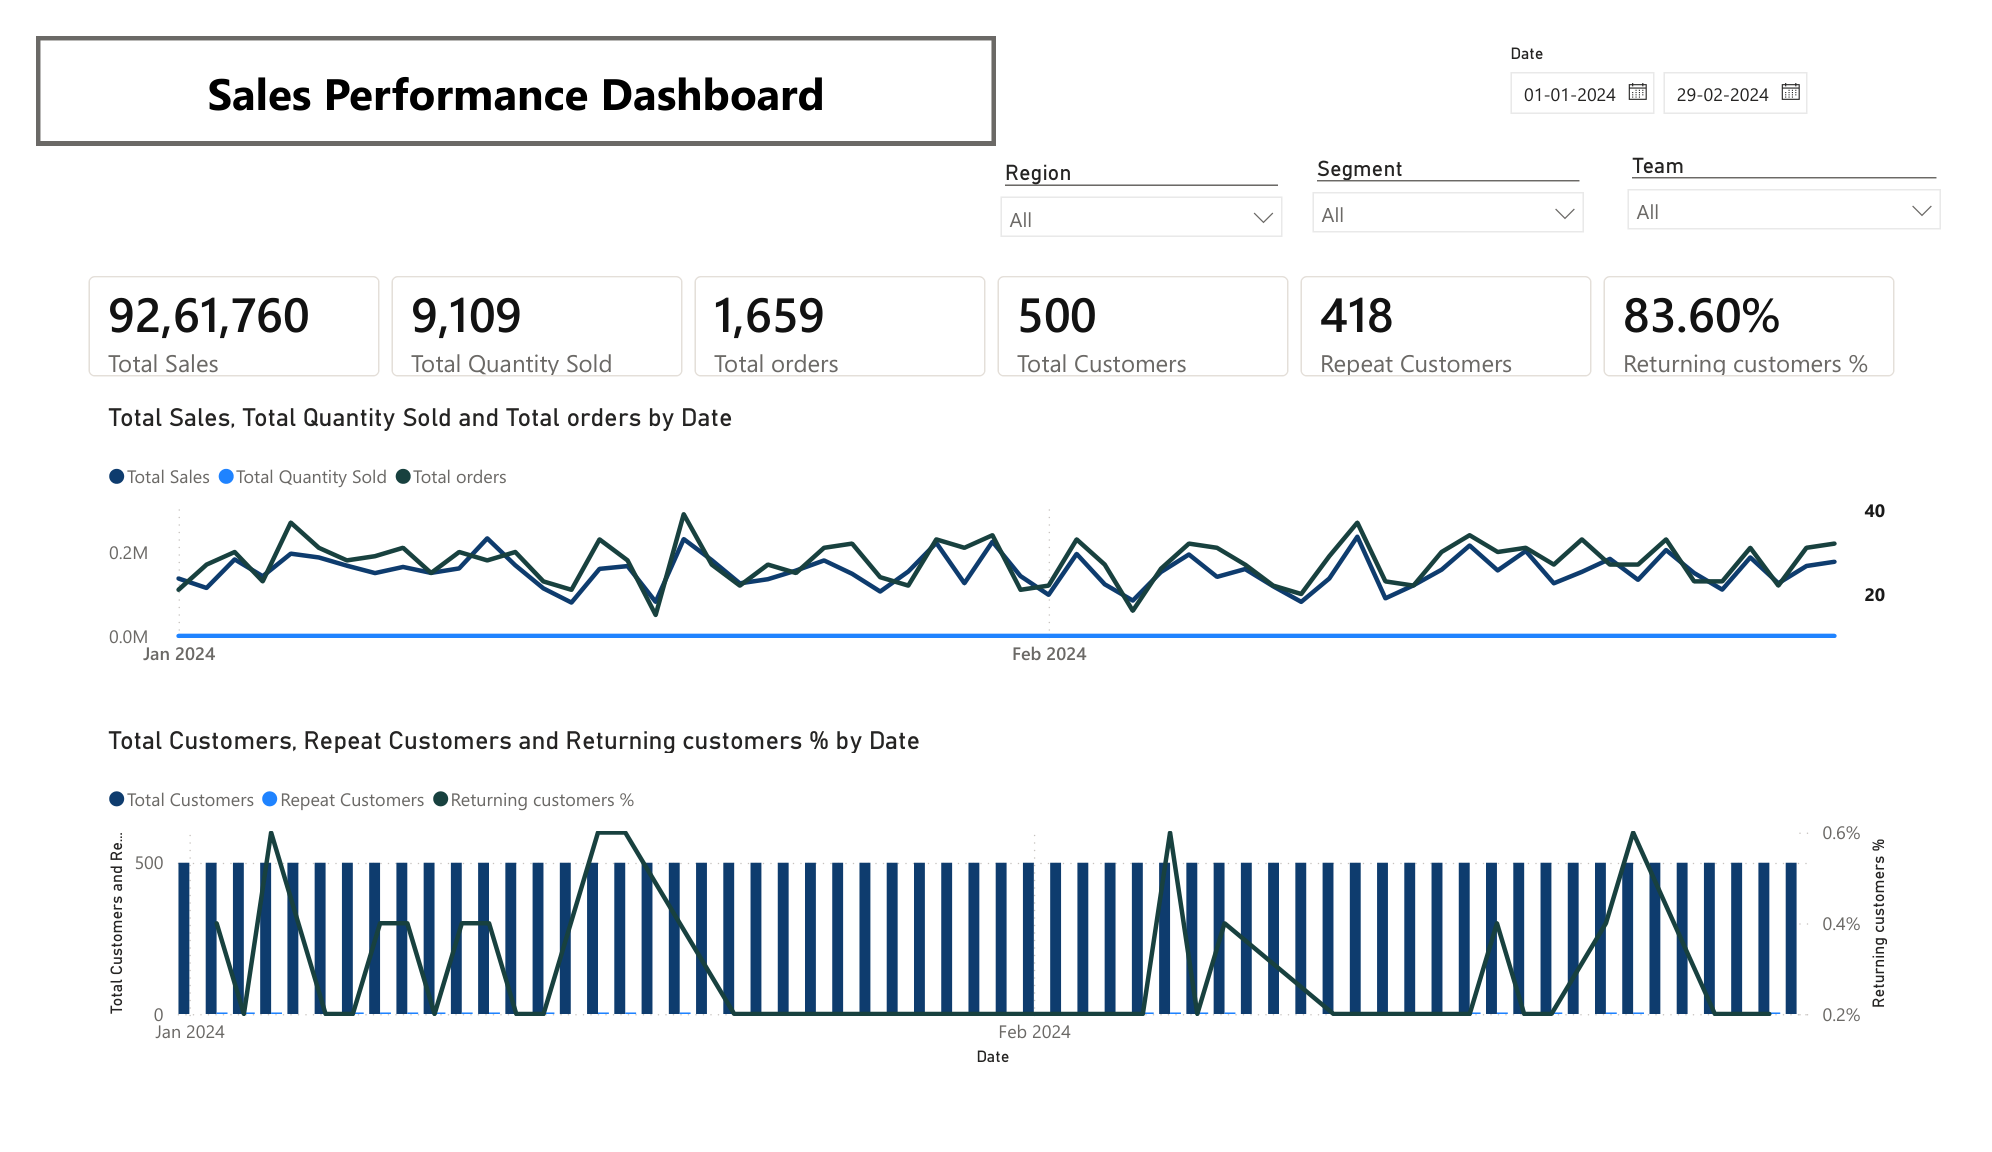

The dashboard page shown, as its layout file describes it:
{"tool":"powerbi","page":{"name":"Sales Overview","canvas":[1280,720],"ordinal":1},"visuals":[{"type":"cardVisual","fields":{"Data":["_All Measures.Total Sales","_All Measures.Total Quantity Sold","_All Measures.Total orders","_All Measures.Total Customers","_All Measures.Repeat Customers","_All Measures.Returning customers %"]},"box":[153.8,106.7,228.8,482.7],"z":0},{"type":"lineChart","fields":{"Category":["calendar.Date"],"Y":["_All Measures.Total Sales","_All Measures.Total Quantity Sold"],"Y2":["_All Measures.Total orders"]},"box":[395.9,204.1,626.9,176.9],"z":1000},{"type":"slicer","fields":{"Values":["calendar.Date"]},"box":[627.6,106.9,195.9,66],"z":2000},{"type":"lineClusteredColumnComboChart","fields":{"Category":["calendar.Date Hierarchy.Date"],"Y2":["_All Measures.Returning customers %"],"Y":["_All Measures.Total Customers","_All Measures.Repeat Customers"]},"box":[395.9,390.7,626.8,191.8],"z":3000},{"type":"slicer","fields":{"Values":["SalesData.Region"]},"box":[382.5,107.2,81.4,66],"z":4000},{"type":"slicer","fields":{"Values":["SalesData.Segment"]},"box":[463.8,106.9,92.8,66],"z":5000},{"type":"slicer","fields":{"Values":["SalesData.Team"]},"box":[556.9,106.9,70.1,66],"z":6000}]}

Visuals, with their boxes in screenshot pixels (x1, y1, x2, y2), scaled from the page's 1280x720 canvas onto the 1992x1152 screenshot:
cardVisual - _All Measures.Total Sales x _All Measures.Total Quantity Sold: 239 171 595 943
lineChart - calendar.Date x _All Measures.Total Sales: 616 327 1592 610
slicer - calendar.Date: 977 171 1282 277
lineClusteredColumnComboChart - calendar.Date Hierarchy.Date x _All Measures.Returning customers %: 616 625 1592 932
slicer - SalesData.Region: 595 172 722 277
slicer - SalesData.Segment: 722 171 866 277
slicer - SalesData.Team: 867 171 976 277
